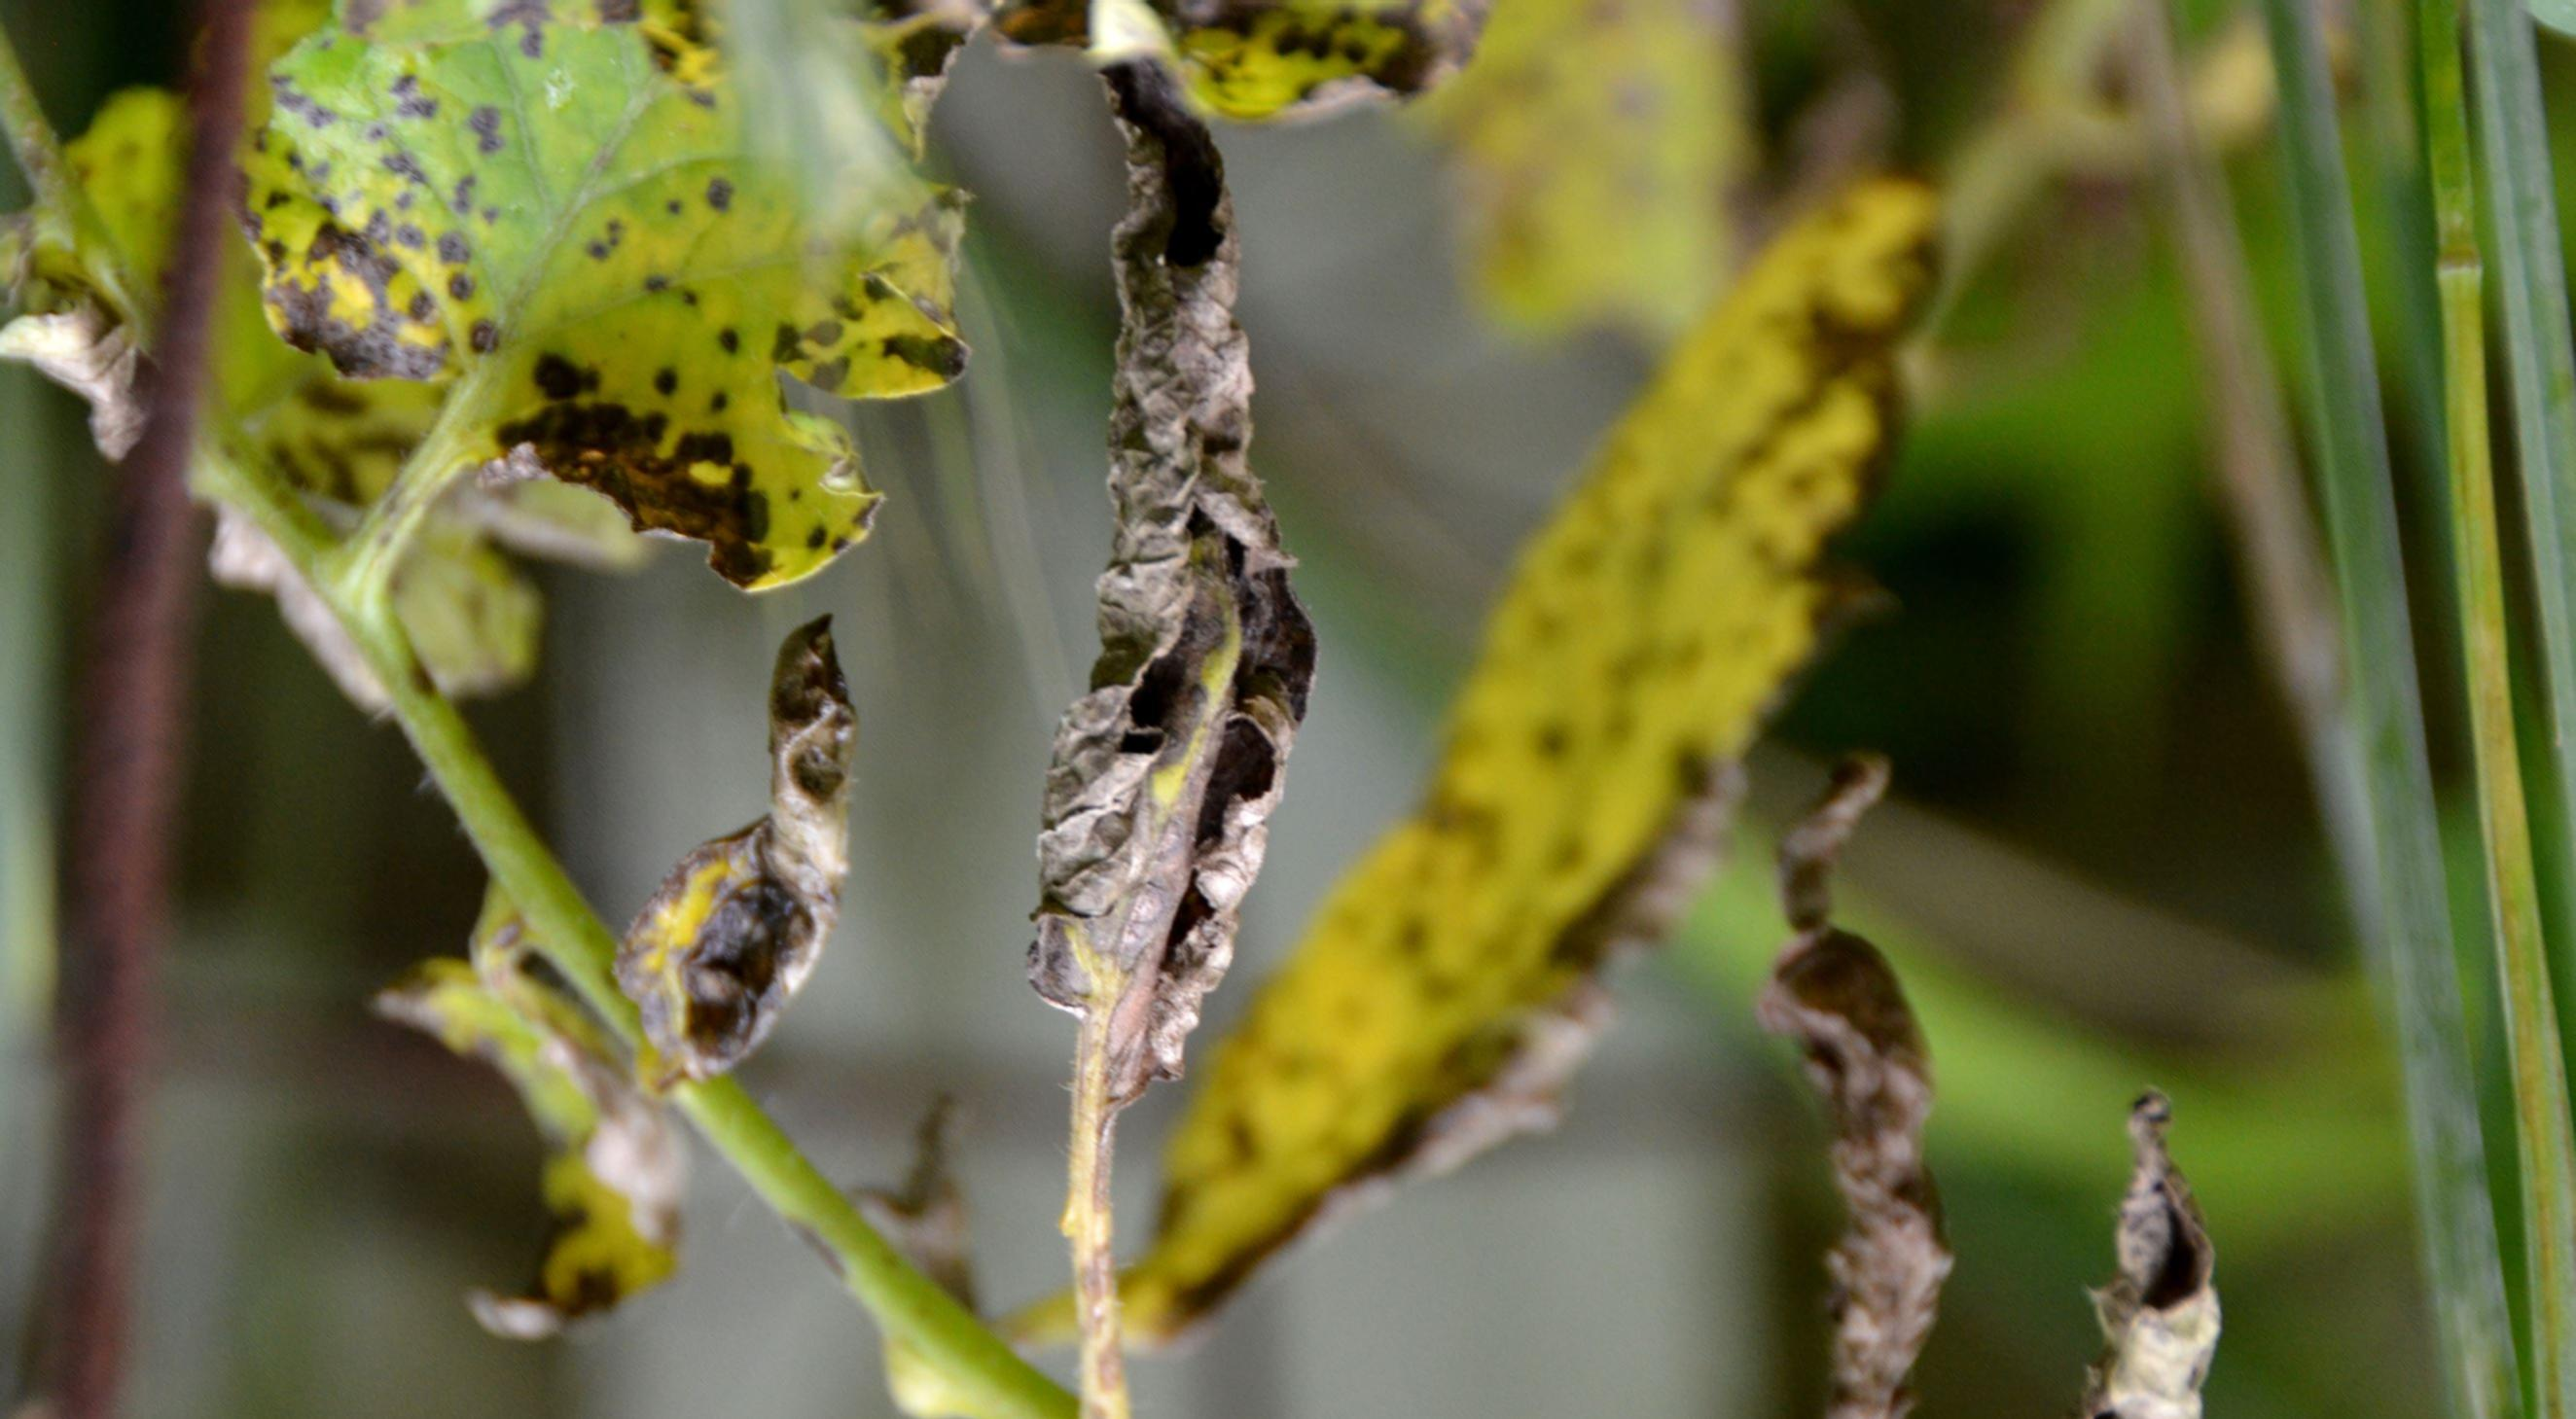Tomato Septoria leaf spot: (1147, 210, 1933, 1338), (245, 0, 1117, 579)
